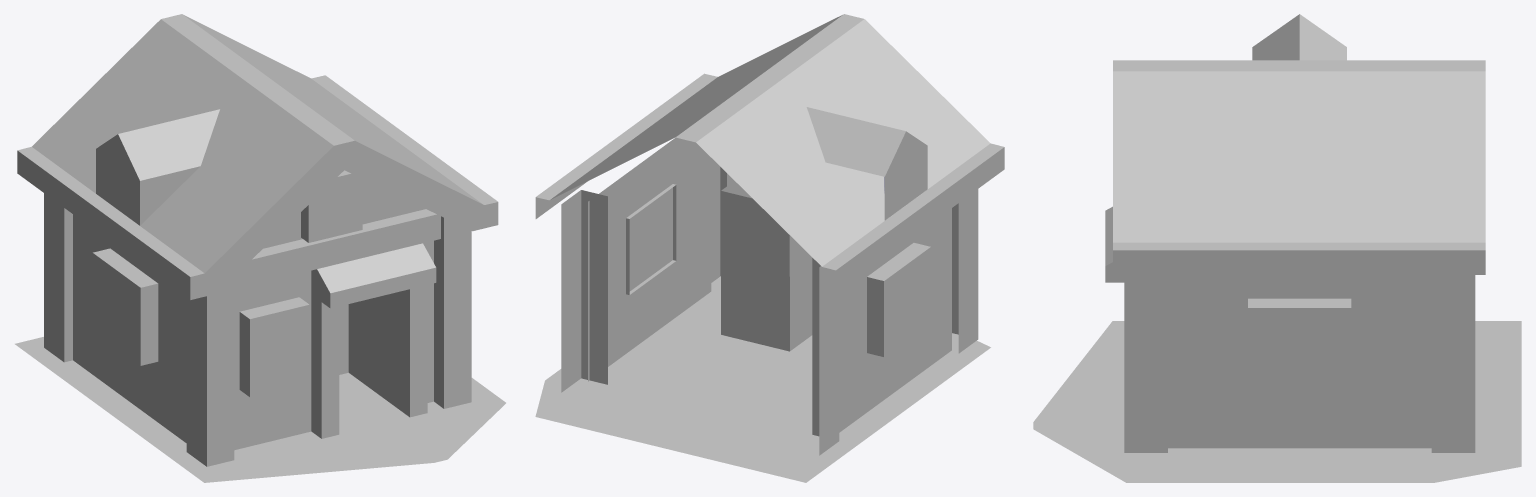
File: c6_house_01.dae
3 views of the same model, side by side, from view 1: azimuth 30°, elevation 25°; view 2: azimuth 150°, elevation 25°; view 3: azimuth 270°, elevation 25° (orthographic). The views are drawn at different scales.
Visible parts, largest first — view 1: c6_house_01; view 2: c6_house_01; view 3: c6_house_01.
Part boxes in pixels (bbox=[...]): c6_house_01: bbox=[15, 14, 505, 482]; c6_house_01: bbox=[535, 14, 1004, 482]; c6_house_01: bbox=[1033, 14, 1521, 482].
Size of the model in its own units: 73.08 by 66.15 by 89.09.
